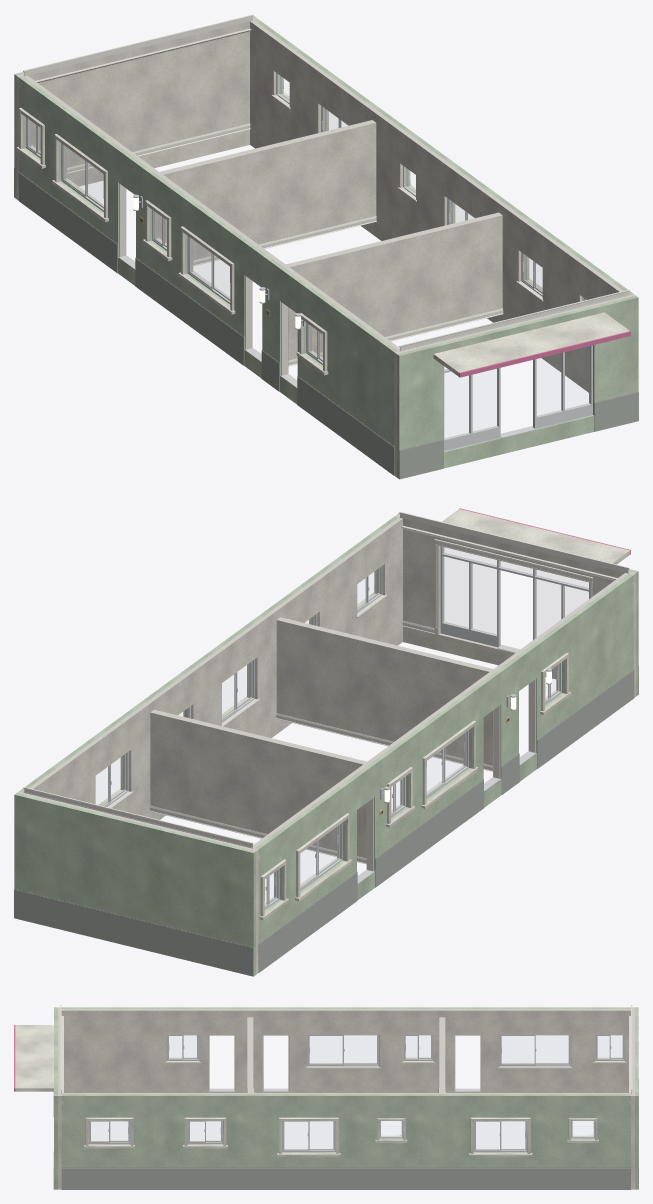
File: envelope_e_ground.glb
3 views of the same model, one above another, from view 1: azimuth 30°, elevation 25°; view 2: azimuth 150°, elevation 25°; view 3: azimuth 270°, elevation 25° (orthographic). The views are drawn at different scales.
Visible parts, largest first — view 1: envelope_e_ground_plaster, envelope_e_ground_stucco, envelope_e_ground_plinth, envelope_e_ground_glass, envelope_e_ground_stucco_w, molduras, envelope_e_ground_alu, envelope_e_ground_trim, envelope_e_ground_accent; view 2: envelope_e_ground_plaster, envelope_e_ground_stucco, envelope_e_ground_plinth, envelope_e_ground_glass, envelope_e_ground_stucco_w, molduras, envelope_e_ground_alu, envelope_e_ground_trim; view 3: envelope_e_ground_plaster, envelope_e_ground_stucco, envelope_e_ground_plinth, envelope_e_ground_glass, envelope_e_ground_stucco_w, envelope_e_ground_alu, envelope_e_ground_trim, molduras, envelope_e_ground_jal.
Boxes of the visible parts, x1=… form: envelope_e_ground_plaster: x1=16, y1=17, x2=635, y2=477; envelope_e_ground_stucco: x1=14, y1=16, x2=638, y2=478; envelope_e_ground_plinth: x1=14, y1=168, x2=638, y2=479; envelope_e_ground_glass: x1=29, y1=109, x2=589, y2=438; envelope_e_ground_stucco_w: x1=16, y1=77, x2=629, y2=376; molduras: x1=19, y1=14, x2=629, y2=402; envelope_e_ground_alu: x1=26, y1=73, x2=592, y2=450; envelope_e_ground_trim: x1=30, y1=94, x2=543, y2=375; envelope_e_ground_accent: x1=459, y1=331, x2=630, y2=377; envelope_e_ground_plaster: x1=17, y1=515, x2=636, y2=974; envelope_e_ground_stucco: x1=14, y1=513, x2=638, y2=976; envelope_e_ground_plinth: x1=14, y1=666, x2=638, y2=976; envelope_e_ground_glass: x1=96, y1=548, x2=588, y2=905; envelope_e_ground_stucco_w: x1=98, y1=509, x2=630, y2=920; molduras: x1=23, y1=511, x2=633, y2=864; envelope_e_ground_alu: x1=103, y1=546, x2=588, y2=909; envelope_e_ground_trim: x1=107, y1=594, x2=556, y2=905; envelope_e_ground_plaster: x1=58, y1=1007, x2=634, y2=1189; envelope_e_ground_stucco: x1=54, y1=1007, x2=638, y2=1189; envelope_e_ground_plinth: x1=53, y1=1079, x2=638, y2=1189; envelope_e_ground_glass: x1=91, y1=1036, x2=621, y2=1148; envelope_e_ground_stucco_w: x1=15, y1=1025, x2=622, y2=1156; envelope_e_ground_alu: x1=88, y1=1035, x2=624, y2=1151; envelope_e_ground_trim: x1=91, y1=1035, x2=626, y2=1141; molduras: x1=60, y1=1005, x2=632, y2=1103; envelope_e_ground_jal: x1=381, y1=1121, x2=593, y2=1136.
Bounding box in the file's own units: 7.35 × 3.6 × 20.85.
14 materials, 3 textured.
